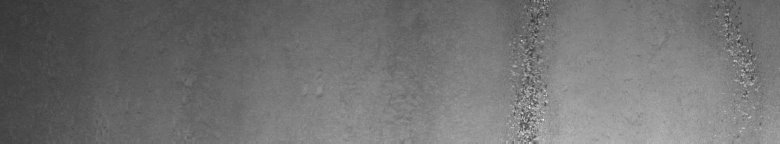hc: (500, 4, 558, 136)
